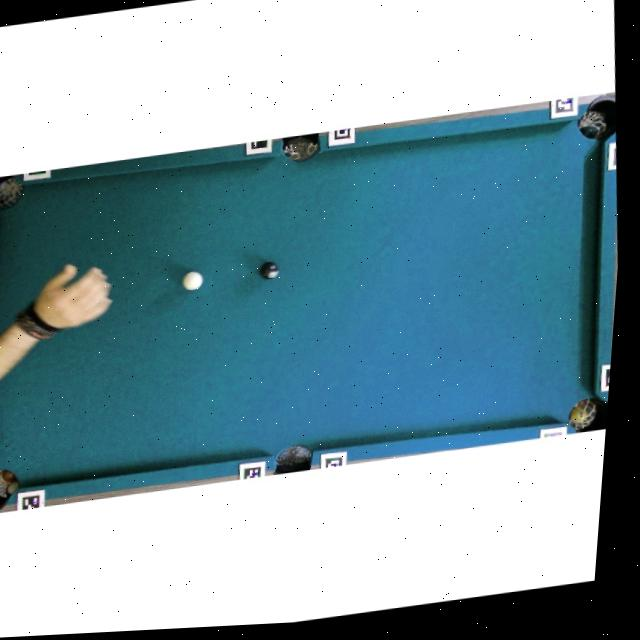cue ball: (180, 269, 204, 291)
other: (259, 259, 280, 280)
